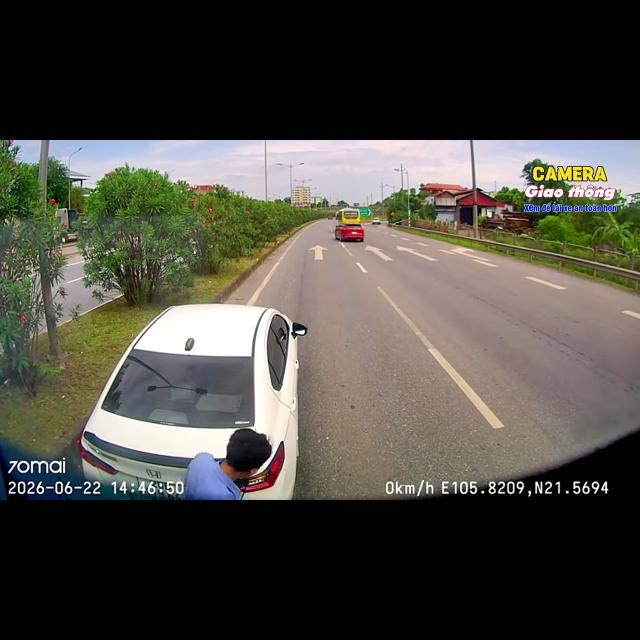bus: (336, 208, 360, 223)
car: (77, 304, 308, 499), (335, 223, 364, 241), (372, 217, 380, 224), (328, 216, 332, 219)
truck: (56, 208, 77, 244)
